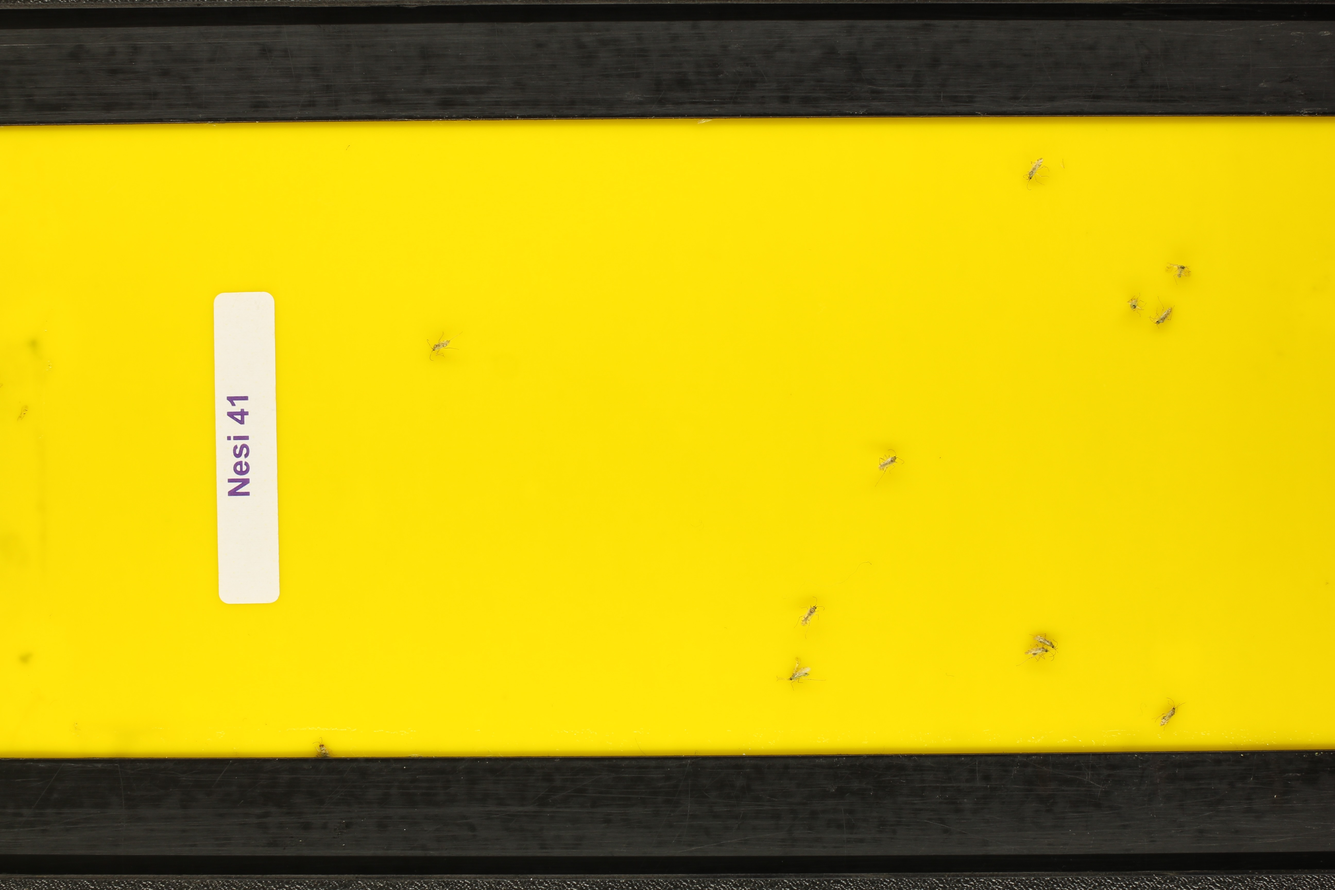NC: (774, 655, 829, 692), (421, 326, 466, 369), (868, 448, 911, 485), (792, 594, 824, 635), (1019, 152, 1053, 189), (1153, 694, 1182, 733), (1020, 647, 1056, 671), (1150, 298, 1176, 328), (1163, 261, 1198, 283), (1124, 290, 1146, 316), (1031, 630, 1060, 649)
